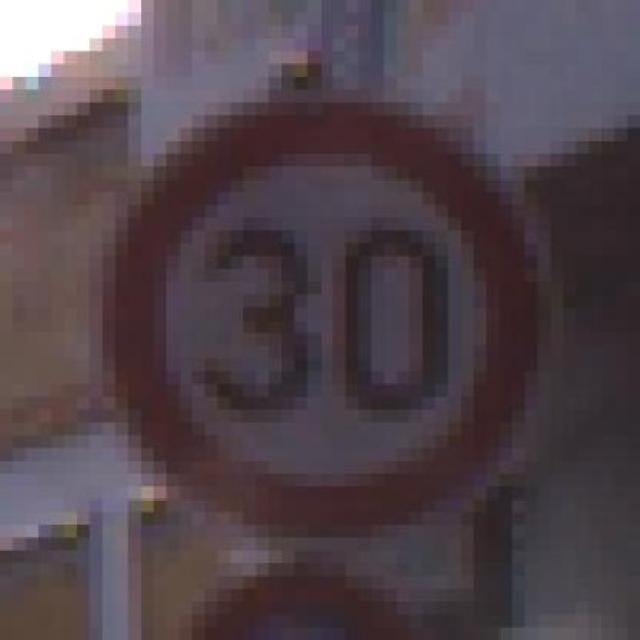Speed Limit 30 KMPh: (76, 76, 576, 538)
